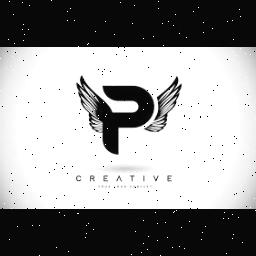p: (98, 84, 156, 160)
